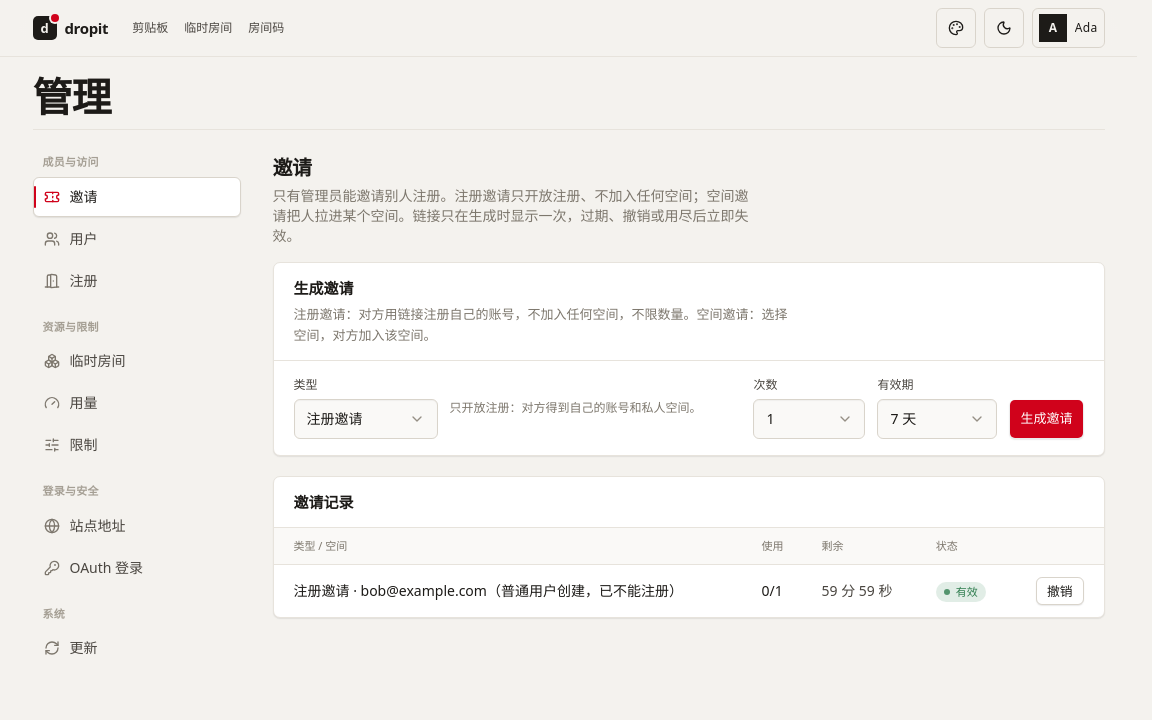
Scenario: 管理 › 邀请: an admin creates a registration invite (no space), sees it listed, and revokes it
Expected: the dropdown labelled "类型" shows "注册邀请", [294,399,438,439]
Expected: the text "注册邀请 · bob@example.com（普通用户创建，已不能注册）" is shown, [274,564,746,617]
Select "3" in the dropdown labelled "次数": [810, 419] box [754,399,866,439]
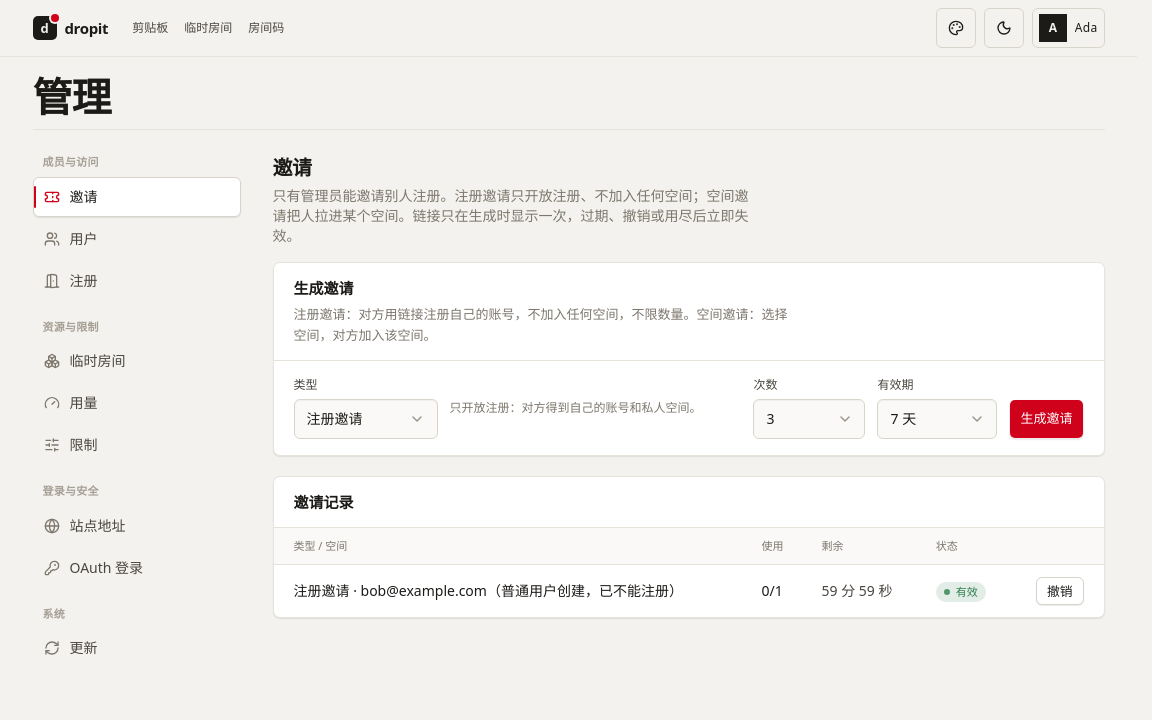
Click the button "生成邀请": [1046, 419] box [1010,399,1084,439]
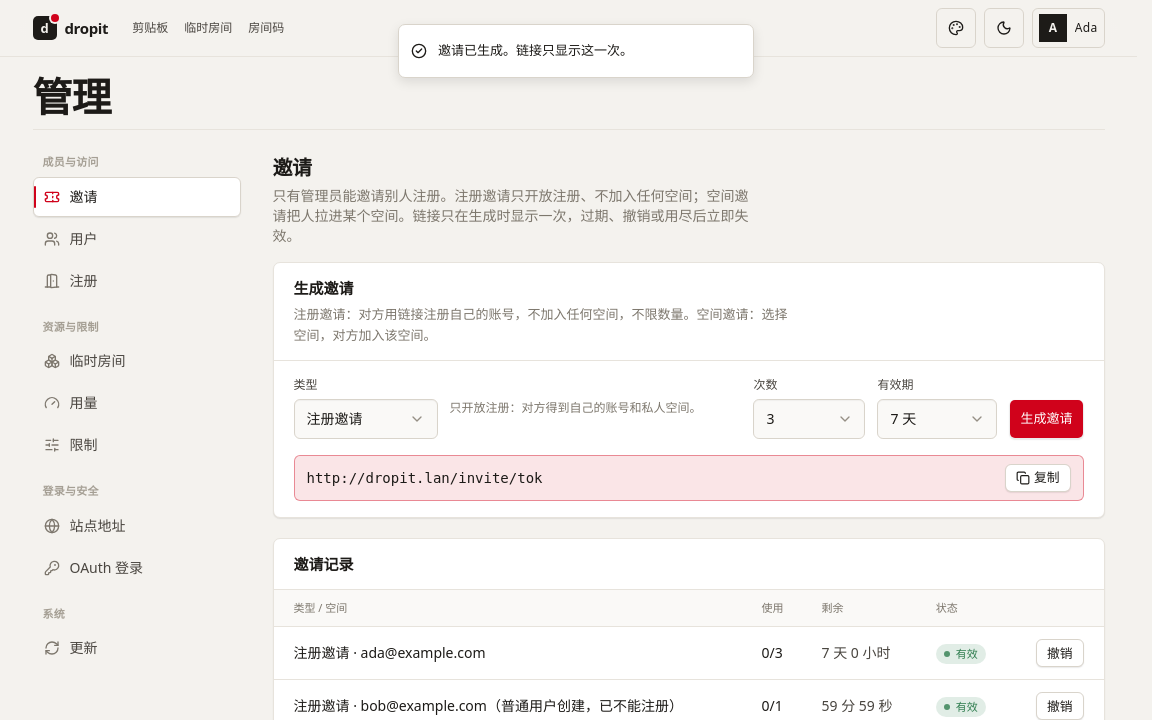
Result: the text "http://dropit.lan/invite/tok" is shown at [306,470,542,486]
Result: the text "注册邀请 · ada@example.com" is shown at [274,626,746,680]
Click the button "撤销" in the row of "注册邀请 · ada@example.com": [1060, 653] box [1036,639,1084,667]
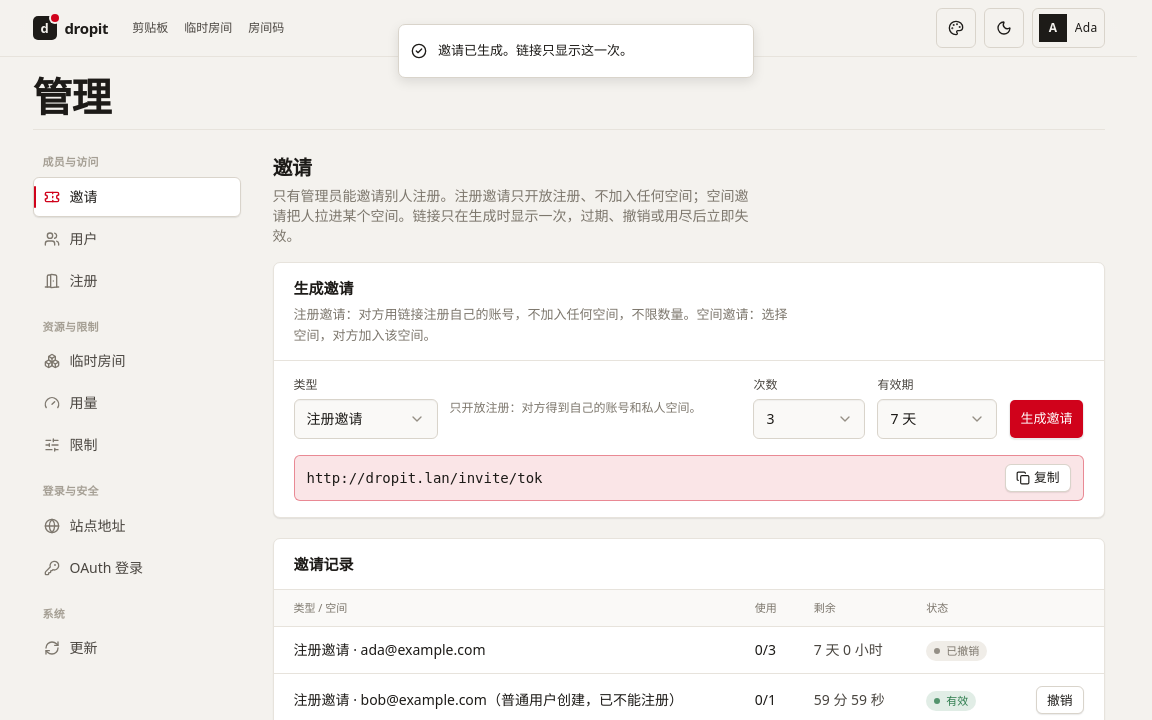
Result: the text "已撤销" is shown at [926,641,987,661]
